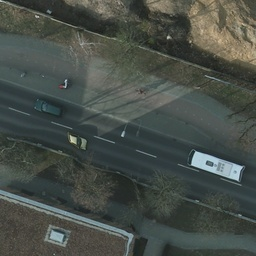car: (31, 97, 64, 117)
